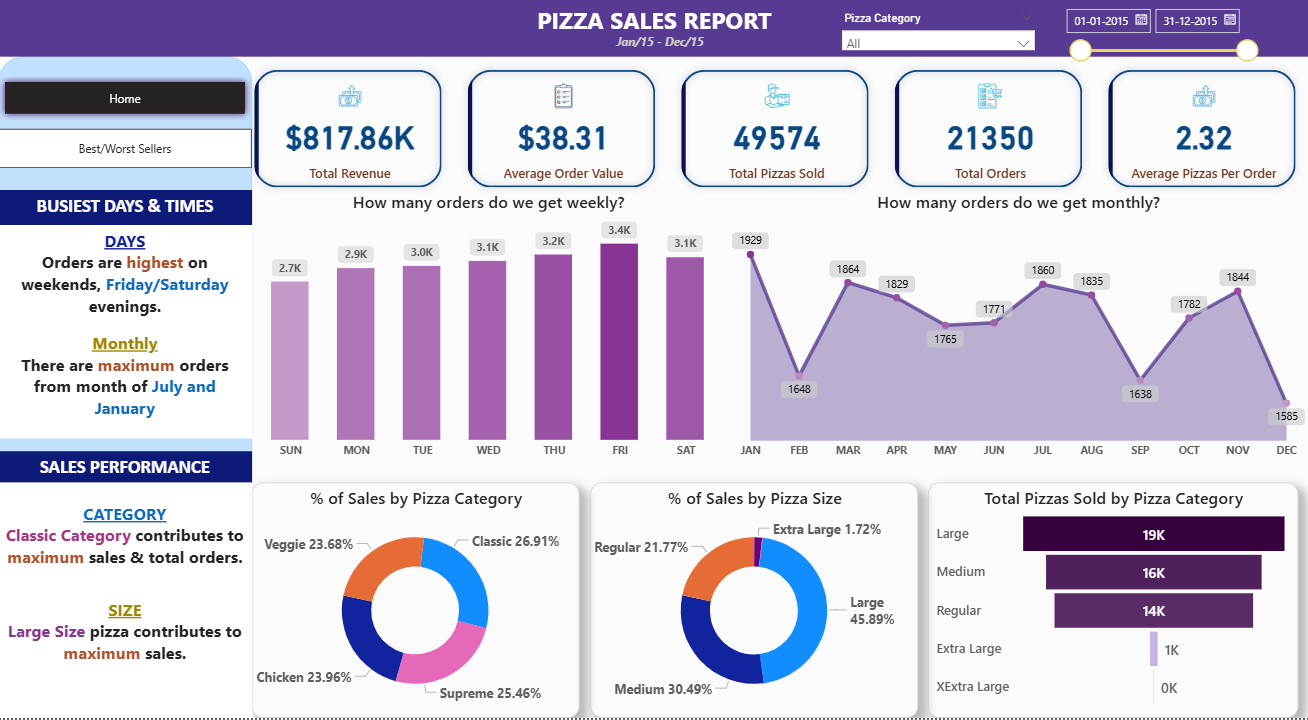

This screenshot's page, from the dashboard's own definition file:
{"tool":"powerbi","page":{"name":"Home","canvas":[1500,820],"ordinal":0},"visuals":[{"type":"textbox","box":[0,64.3,290,755.7],"z":0},{"type":"cardVisual","fields":{"Data":["_Measures.Total_revenue","_Measures.Average_Order_Value","_Measures.Total_pizzas_sold","_Measures.Total_orders","_Measures.Average_pizzas_per_order"]},"box":[277.5,64.6,1222.9,166.3],"z":1000},{"type":"textbox","box":[0,0,1500.4,64.6],"z":2000},{"type":"textbox","box":[581.2,33,350.4,31.6],"z":3000},{"type":"columnChart","title":"How many orders do we get weekly?","fields":{"Y":["_Measures.Total_orders"],"Category":["pizza_sales.Order_day"]},"box":[277.1,217.1,567.1,315.7],"z":4000},{"type":"areaChart","title":"How many orders do we get monthly?","fields":{"Y":["_Measures.Total_orders"],"Category":["pizza_sales.Order_month"]},"box":[832.9,217.1,667.1,315.7],"z":5000},{"type":"donutChart","title":"% of Sales by Pizza Category","fields":{"Category":["pizza_sales.pizza_category"],"Y":["_Measures.Total_revenue"]},"box":[290,551.4,374.3,268.6],"z":6000},{"type":"textbox","box":[0,217.1,290,40],"z":7000},{"type":"donutChart","title":"% of Sales by Pizza Size","fields":{"Y":["_Measures.Total_revenue"],"Category":["pizza_sales.pizza_size"]},"box":[677.1,551.4,374.3,268.6],"z":8000},{"type":"funnel","title":"Total Pizzas Sold by Pizza Category","fields":{"Category":["pizza_sales.pizza_size"],"Y":["_Measures.Total_pizzas_sold"]},"box":[1062.9,551.4,422.9,268.6],"z":9000},{"type":"textbox","box":[0,257.1,290,244.3],"z":10000},{"type":"textbox","box":[0,515.7,290,35.7],"z":10001},{"type":"textbox","box":[0,551.4,290,268.6],"z":10002},{"type":"slicer","fields":{"Values":["pizza_sales.pizza_category"]},"box":[954.3,8.6,240,48.6],"z":10003},{"type":"slicer","fields":{"Values":["pizza_sales.order_date"]},"box":[1208.6,0,240,85.7],"z":10004},{"type":"pageNavigator","box":[0,85.7,290,52.9],"z":10005},{"type":"pageNavigator","box":[0,147.1,290,45.7],"z":10006}]}

Visuals, with their boxes in screenshot pixels (x1, y1, x2, y2), scaled from the page's 1500x820 canvas onto the 1308x720 screenshot:
textbox: <bbox>0, 56, 253, 719</bbox>
cardVisual - _Measures.Total_revenue x _Measures.Average_Order_Value: <bbox>242, 57, 1307, 203</bbox>
textbox: <bbox>0, 0, 1307, 57</bbox>
textbox: <bbox>507, 29, 812, 57</bbox>
"How many orders do we get weekly?" columnChart: <bbox>242, 191, 736, 468</bbox>
"How many orders do we get monthly?" areaChart: <bbox>726, 191, 1307, 468</bbox>
"% of Sales by Pizza Category" donutChart: <bbox>253, 484, 579, 719</bbox>
textbox: <bbox>0, 191, 253, 226</bbox>
"% of Sales by Pizza Size" donutChart: <bbox>590, 484, 917, 719</bbox>
"Total Pizzas Sold by Pizza Category" funnel: <bbox>927, 484, 1296, 719</bbox>
textbox: <bbox>0, 226, 253, 440</bbox>
textbox: <bbox>0, 453, 253, 484</bbox>
textbox: <bbox>0, 484, 253, 719</bbox>
slicer - pizza_sales.pizza_category: <bbox>832, 8, 1041, 50</bbox>
slicer - pizza_sales.order_date: <bbox>1054, 0, 1263, 75</bbox>
pageNavigator: <bbox>0, 75, 253, 122</bbox>
pageNavigator: <bbox>0, 129, 253, 169</bbox>
